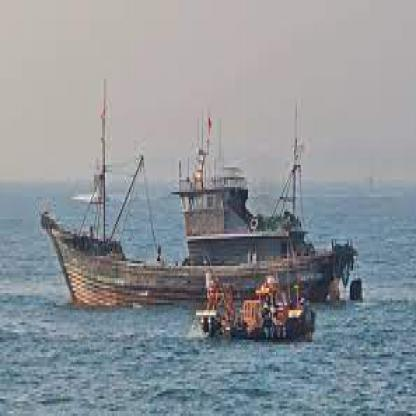fish-b: (32, 71, 373, 320)
